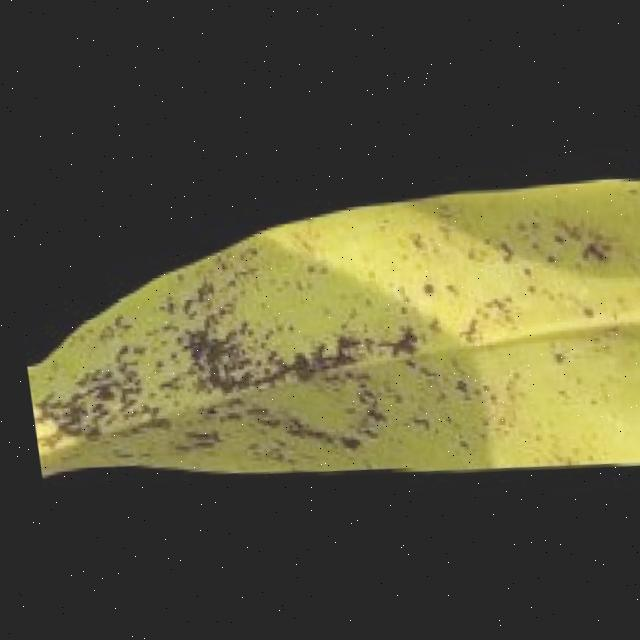mite: (534, 234, 609, 269), (572, 238, 603, 262), (542, 349, 561, 364), (414, 280, 430, 295), (545, 228, 561, 243), (574, 301, 590, 316), (619, 181, 637, 194), (633, 250, 640, 279), (539, 251, 554, 263), (638, 219, 640, 233)
